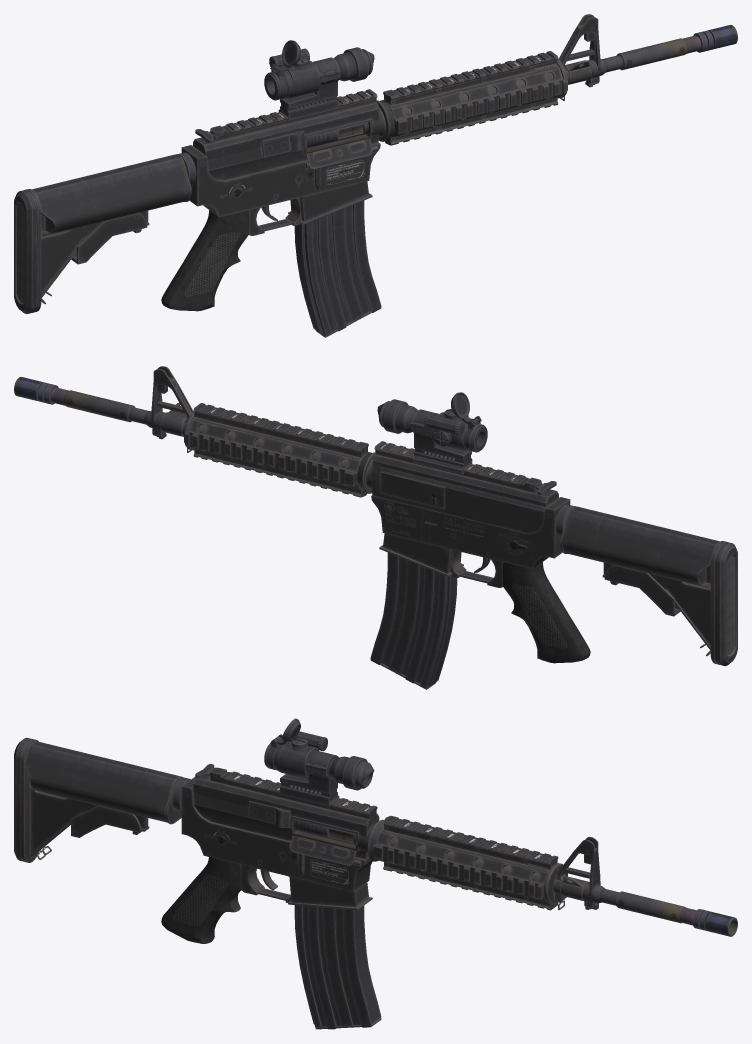
Rendered from M4Colt.obj.
3 views of the same model, one above another, from view 1: azimuth 30°, elevation 25°; view 2: azimuth 150°, elevation 25°; view 3: azimuth 330°, elevation 25° (orthographic).
Parts seen in each view (by area): view 1: M4Colt; view 2: M4Colt; view 3: M4Colt.
Boxes of the visible parts, box(x1,y1,x2,y2) form: M4Colt: box(14, 14, 737, 337); M4Colt: box(14, 366, 737, 689); M4Colt: box(14, 718, 737, 1029).
Size of the model in its own units: 4.96 by 1.99 by 0.3105.
